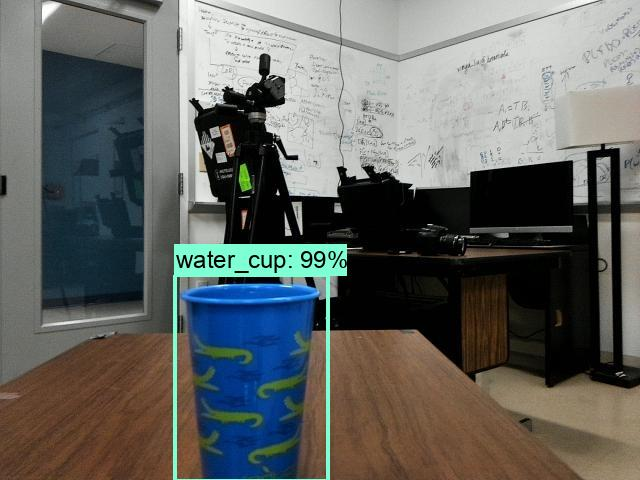water_cup: (179, 279, 332, 480)
